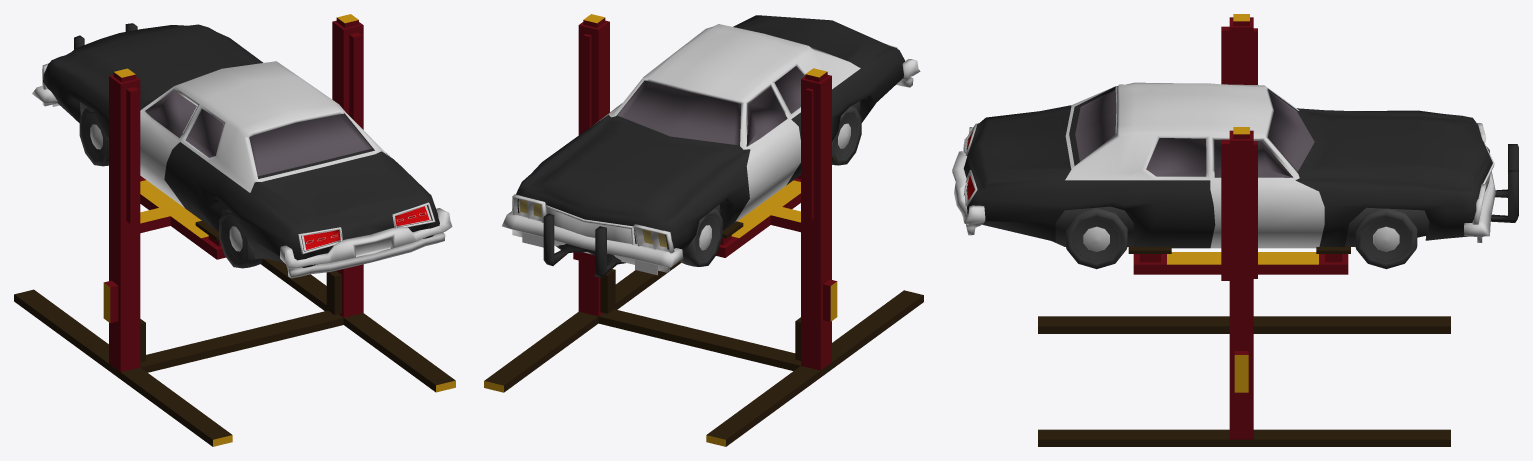
The picture shows the model from 3 angles, left to right: view 1: azimuth 30°, elevation 25°; view 2: azimuth 150°, elevation 25°; view 3: azimuth 270°, elevation 25°; orthographic projection. The views are drawn at different scales.
Parts seen in each view (by area): view 1: Cube.005; view 2: Cube.005; view 3: Cube.005.
Boxes of the visible parts, left/top/right/bottom form: Cube.005: left=14, top=14, right=455, bottom=446; Cube.005: left=484, top=14, right=923, bottom=446; Cube.005: left=952, top=14, right=1518, bottom=446.
Bounding box in the file's own units: 307 × 339 × 560.
